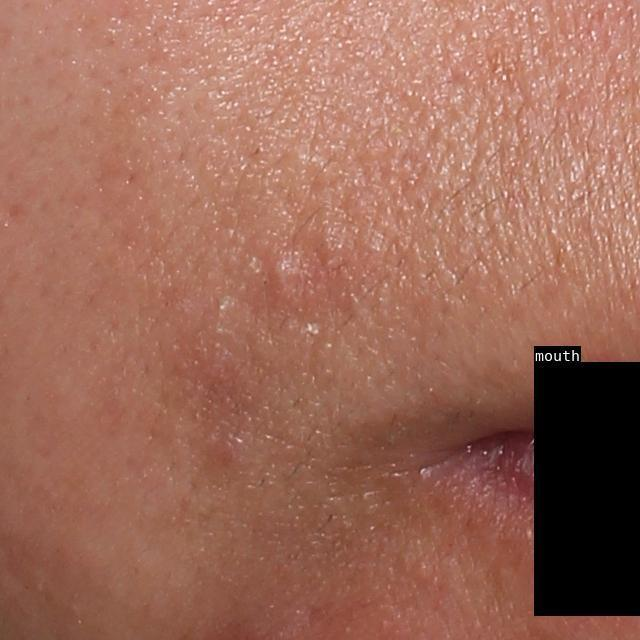papule: (262, 252, 301, 306)
